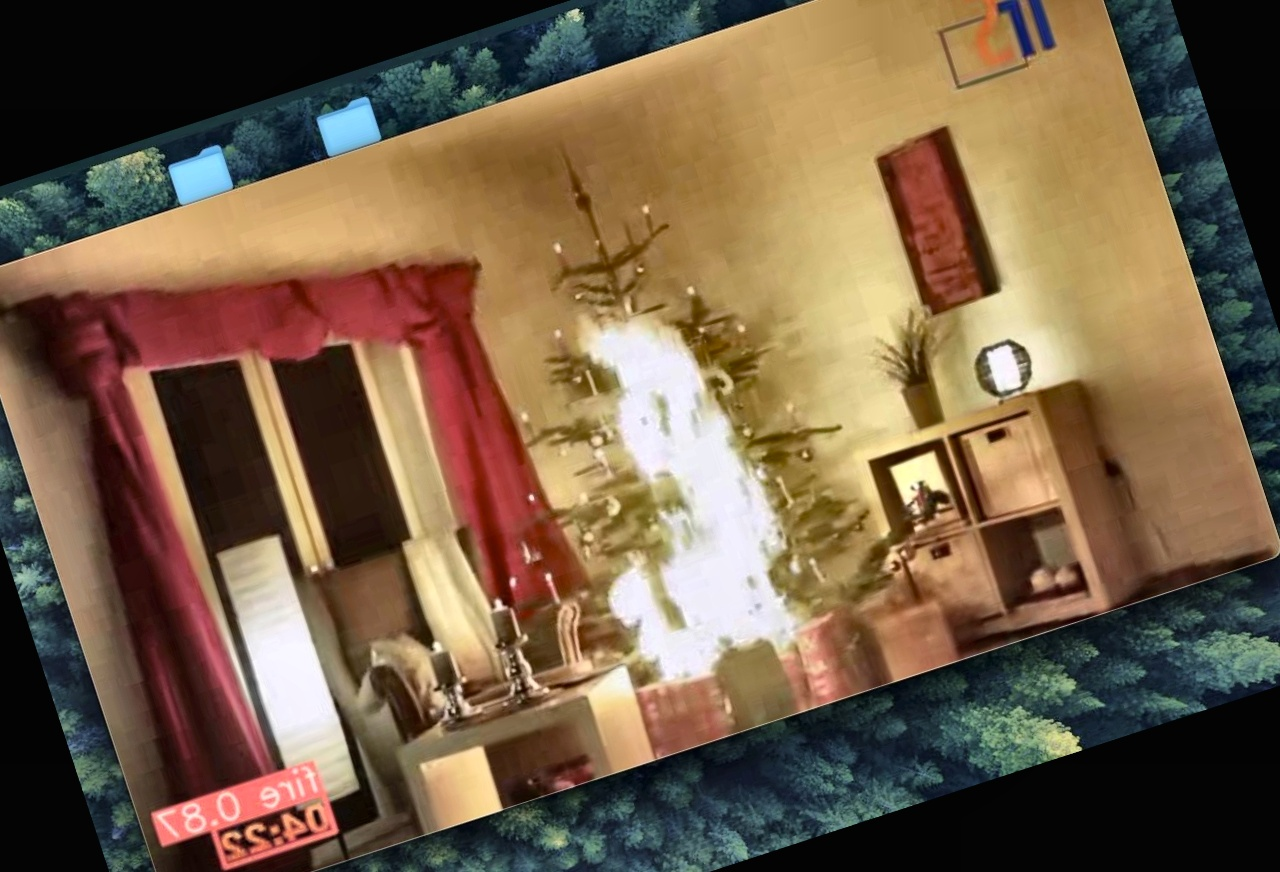fire: (458, 215, 852, 726)
